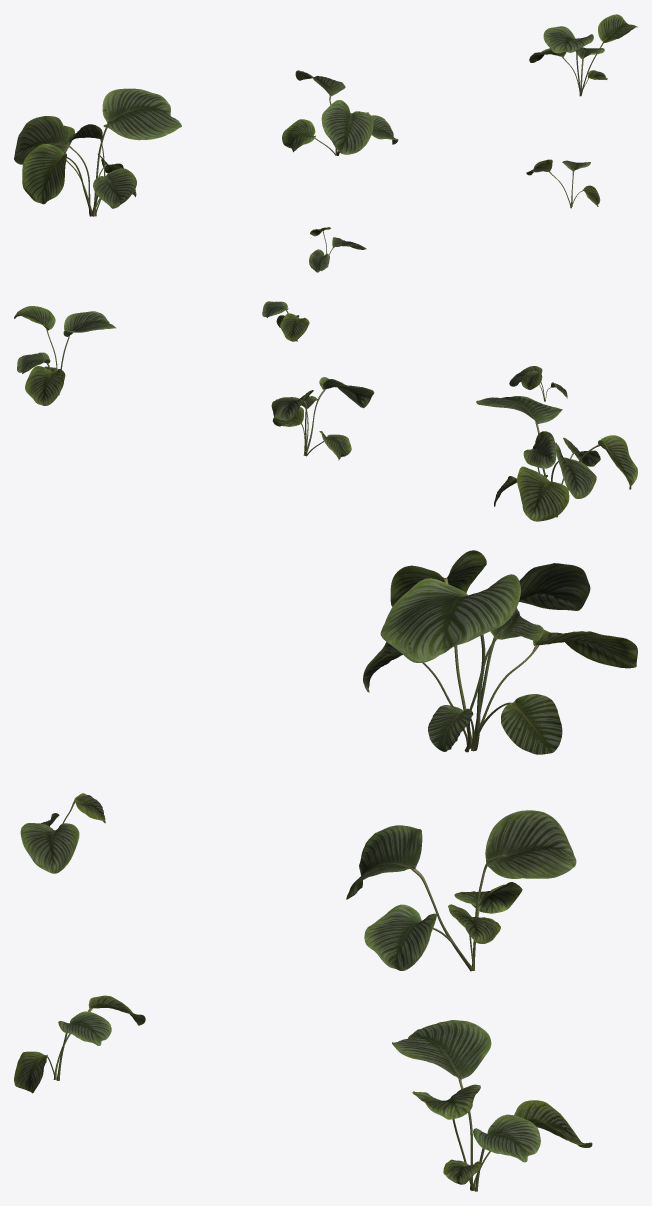
File: calathea_orbifolia_01_1k.gltf
The picture shows the model from 3 angles, top to bottom: view 1: azimuth 30°, elevation 25°; view 2: azimuth 150°, elevation 25°; view 3: azimuth 270°, elevation 25°; orthographic projection. The views are drawn at different scales.
Visible parts, largest first — view 1: calathea_orbifolia_01_a, calathea_orbifolia_01_b, calathea_orbifolia_01_c, calathea_orbifolia_01_e, calathea_orbifolia_01_d; view 2: calathea_orbifolia_01_a, calathea_orbifolia_01_c, calathea_orbifolia_01_b, calathea_orbifolia_01_e, calathea_orbifolia_01_d; view 3: calathea_orbifolia_01_a, calathea_orbifolia_01_b, calathea_orbifolia_01_c, calathea_orbifolia_01_e, calathea_orbifolia_01_d.
Boxes of the visible parts, left/top/right/bottom form: calathea_orbifolia_01_a: left=14, top=88, right=181, bottom=216; calathea_orbifolia_01_b: left=282, top=70, right=398, bottom=155; calathea_orbifolia_01_c: left=529, top=14, right=637, bottom=96; calathea_orbifolia_01_e: left=526, top=159, right=600, bottom=208; calathea_orbifolia_01_d: left=309, top=227, right=366, bottom=272; calathea_orbifolia_01_a: left=476, top=396, right=637, bottom=521; calathea_orbifolia_01_c: left=14, top=306, right=115, bottom=405; calathea_orbifolia_01_b: left=271, top=377, right=374, bottom=460; calathea_orbifolia_01_e: left=262, top=301, right=309, bottom=341; calathea_orbifolia_01_d: left=509, top=366, right=567, bottom=401; calathea_orbifolia_01_a: left=363, top=550, right=637, bottom=754; calathea_orbifolia_01_b: left=346, top=810, right=576, bottom=971; calathea_orbifolia_01_c: left=392, top=1020, right=592, bottom=1191; calathea_orbifolia_01_e: left=14, top=995, right=145, bottom=1093; calathea_orbifolia_01_d: left=20, top=793, right=105, bottom=873.
Bounding box in the file's own units: 2.49 × 0.4243 × 1.19.
Materials: 1 (1 with a texture image).
